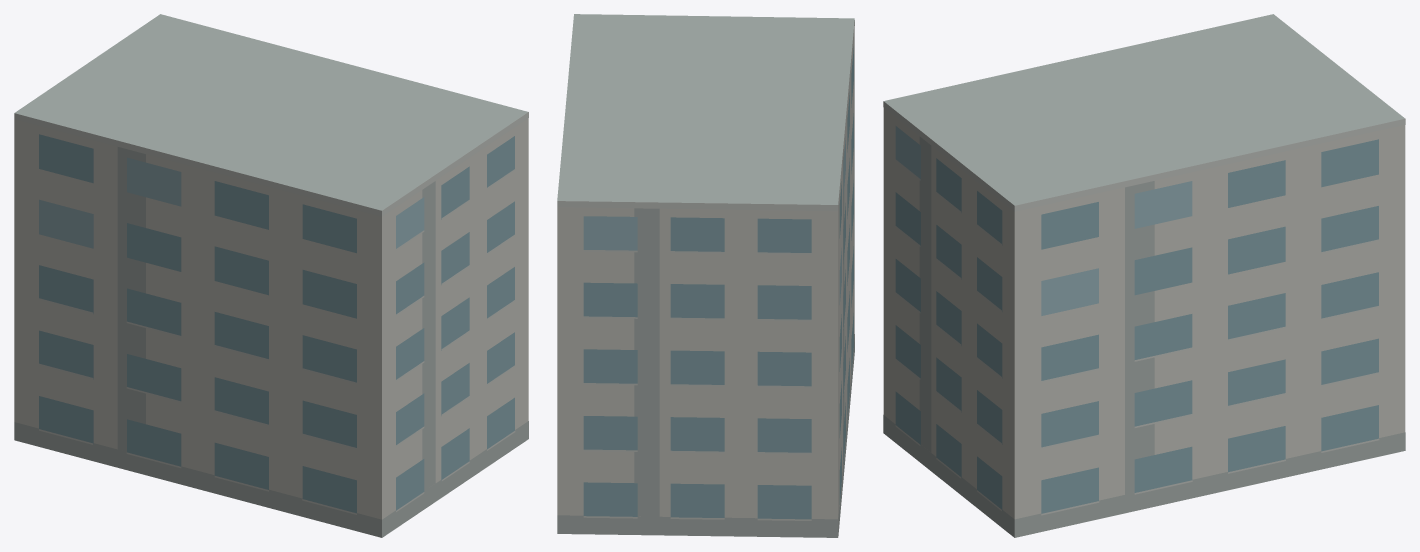
The model's file is survey-upis-32932424.glb.
3 renders of one model, left to right at view 1: azimuth 30°, elevation 25°; view 2: azimuth 150°, elevation 25°; view 3: azimuth 270°, elevation 25°, orthographic.
Visible parts, largest first — view 1: survey-upis-32932424.tmp; view 2: survey-upis-32932424.tmp; view 3: survey-upis-32932424.tmp.
Boxes of the visible parts, x1,y1,x2,y2 form: survey-upis-32932424.tmp: (14, 14, 528, 537); survey-upis-32932424.tmp: (557, 14, 854, 537); survey-upis-32932424.tmp: (883, 14, 1405, 537).
Bounding box in the file's own units: 16.11 × 13 × 18.53.
